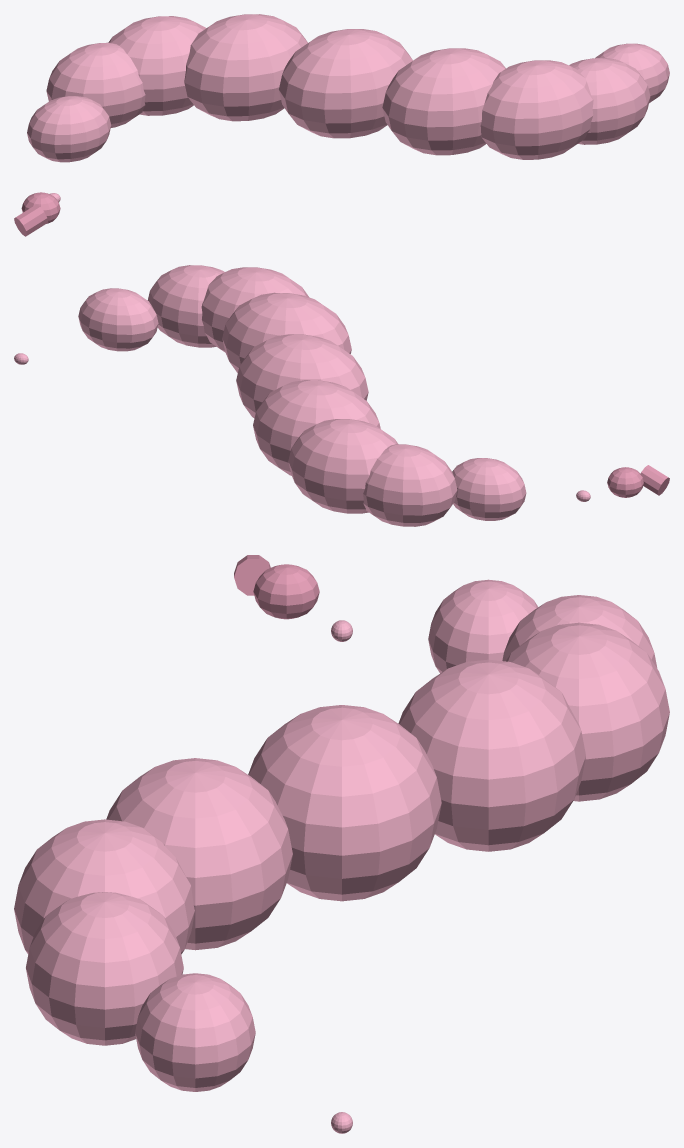
File: item_83_long_balloon.glb
3 views of the same model, one above another, from view 1: azimuth 30°, elevation 25°; view 2: azimuth 150°, elevation 25°; view 3: azimuth 270°, elevation 25° (orthographic). The views are drawn at different scales.
Parts seen in each view (by area): view 1: I83_Seg5, I83_Seg4, I83_Seg6, I83_Seg7, I83_Seg3, I83_Seg2, I83_Seg8, I83_Seg1, I83_Seg9, I83_Nub, I83_Knot; view 2: I83_Seg3, I83_Seg2, I83_Seg5, I83_Seg4, I83_Seg6, I83_Seg9, I83_Seg8, I83_Seg1, I83_Seg7, I83_Knot, I83_Nub; view 3: I83_Seg5, I83_Seg4, I83_Seg6, I83_Seg8, I83_Seg3, I83_Seg7, I83_Seg9, I83_Seg1, I83_Seg2, I83_Knot, I83_Nub.
Boxes of the visible parts, x1,y1,x2,y2 form: I83_Seg5: [279, 29, 412, 138]; I83_Seg4: [184, 14, 307, 121]; I83_Seg6: [382, 48, 505, 155]; I83_Seg7: [480, 60, 593, 159]; I83_Seg3: [108, 16, 206, 115]; I83_Seg2: [46, 42, 145, 127]; I83_Seg8: [569, 58, 650, 144]; I83_Seg1: [27, 96, 111, 162]; I83_Seg9: [595, 43, 669, 103]; I83_Nub: [14, 204, 48, 236]; I83_Knot: [21, 192, 60, 223]; I83_Seg3: [288, 419, 398, 513]; I83_Seg2: [363, 444, 457, 526]; I83_Seg5: [236, 334, 368, 418]; I83_Seg4: [253, 380, 380, 475]; I83_Seg6: [222, 292, 351, 372]; I83_Seg9: [78, 288, 158, 351]; I83_Seg8: [147, 265, 224, 347]; I83_Seg1: [452, 458, 526, 520]; I83_Seg7: [201, 267, 309, 352]; I83_Knot: [607, 467, 643, 497]; I83_Nub: [640, 465, 669, 495]; I83_Seg5: [248, 705, 441, 901]; I83_Seg4: [398, 659, 585, 851]; I83_Seg6: [106, 758, 292, 950]; I83_Seg8: [26, 892, 183, 1045]; I83_Seg3: [506, 622, 669, 801]; I83_Seg7: [14, 819, 194, 954]; I83_Seg9: [135, 973, 255, 1091]; I83_Seg1: [428, 579, 537, 673]; I83_Seg2: [502, 595, 657, 667]; I83_Knot: [253, 564, 319, 619]; I83_Nub: [234, 555, 270, 595].
Bounding box in the file's own units: 0.2344 × 0.0331 × 0.1184.
